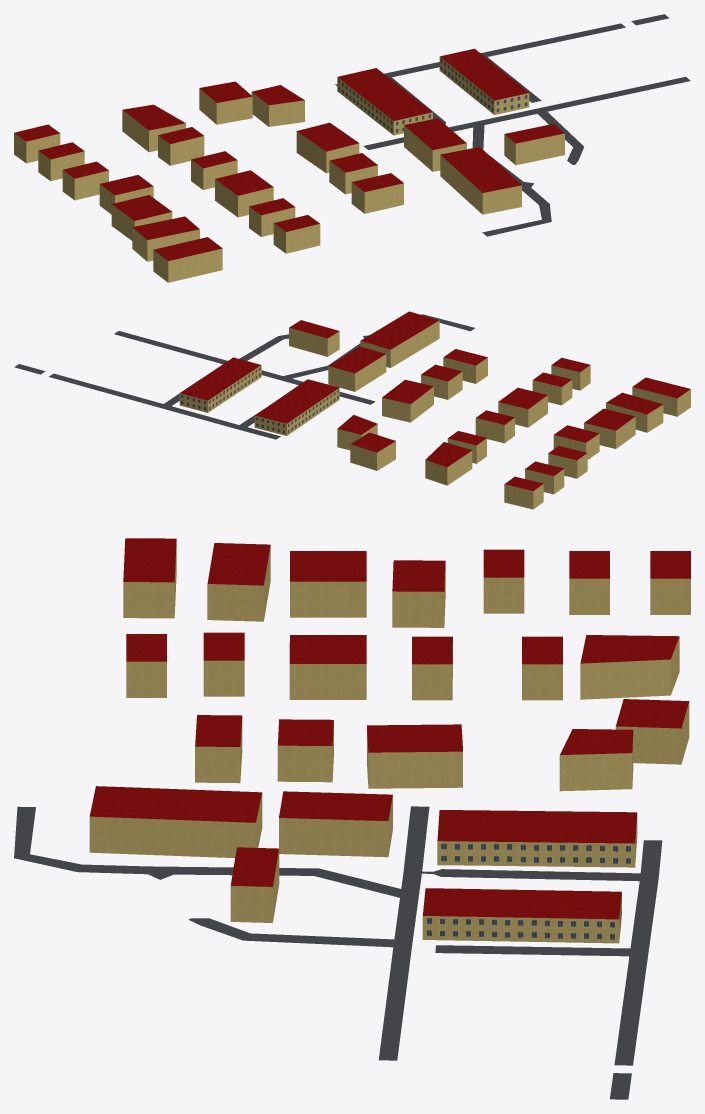
The model's file is district_0_-3.glb.
3 renders of one model, top to bottom at view 1: azimuth 30°, elevation 25°; view 2: azimuth 150°, elevation 25°; view 3: azimuth 270°, elevation 25°, orthographic. The views are drawn at different scales.
Parts seen in each view (by area): view 1: Building w44036726, Building w44036841, Building w44036836, Building w624699085, Building w44036797, Building w624700106, Building w453264662, Building w44036767, Building w624700109, Building w624700110, Building w624699087, Building w624700107 (+15 smaller); view 2: Building w44036841, Building w44036726, Building w44036836, Building w44036797, Building w624700106, Building w624700110, Building w44036766, Building w624699085, Building w44036767, Building w453264662, Building w624700109, Building w624699087 (+14 smaller); view 3: Building w44036726, Building w44036841, Building w44036836, Building w44036797, Building w624700106, Building w624700110, Building w44036766, Building w44036767, Building w624699087, Road w165318619, Building w624700107, Building w624699085 (+17 smaller).
Boxes of the visible parts, left/top/right/bottom form: Building w44036726: left=440, top=147, right=521, bottom=214; Building w44036841: left=337, top=68, right=432, bottom=135; Building w44036836: left=439, top=48, right=529, bottom=114; Building w624699085: left=153, top=237, right=222, bottom=282; Building w44036797: left=404, top=118, right=466, bottom=171; Building w624700106: left=296, top=122, right=359, bottom=173; Building w453264662: left=504, top=124, right=564, bottom=165; Building w44036767: left=215, top=170, right=273, bottom=217; Building w624700109: left=199, top=81, right=252, bottom=124; Building w624700110: left=122, top=104, right=185, bottom=152; Building w624699087: left=132, top=216, right=199, bottom=261; Building w624700107: left=251, top=85, right=304, bottom=126; Building w44036841: left=254, top=379, right=339, bottom=435; Building w44036726: left=360, top=311, right=439, bottom=367; Building w44036836: left=179, top=357, right=261, bottom=412; Building w44036797: left=328, top=346, right=386, bottom=391; Building w624700106: left=382, top=379, right=433, bottom=422; Building w624700110: left=425, top=442, right=472, bottom=485; Building w44036766: left=584, top=408, right=635, bottom=448; Building w624699085: left=632, top=377, right=690, bottom=416; Building w44036767: left=498, top=387, right=547, bottom=427; Building w453264662: left=289, top=320, right=339, bottom=356; Building w624700109: left=350, top=432, right=395, bottom=470; Building w624699087: left=606, top=392, right=663, bottom=432; Building w44036726: left=89, top=786, right=262, bottom=857; Building w44036841: left=437, top=810, right=637, bottom=867; Building w44036836: left=422, top=888, right=621, bottom=943; Building w44036797: left=279, top=791, right=392, bottom=857; Building w624700106: left=367, top=724, right=462, bottom=788; Building w624700110: left=580, top=635, right=679, bottom=699; Building w44036766: left=290, top=551, right=366, bottom=617; Building w44036767: left=289, top=635, right=366, bottom=699; Building w624699087: left=207, top=543, right=270, bottom=621; Road w165318619: left=378, top=815, right=428, bottom=1060; Building w624700107: left=559, top=729, right=633, bottom=791; Building w624699085: left=123, top=538, right=176, bottom=618.
Size of the model in its own units: 234 by 7.5 by 127.
4 materials, 4 textured.
